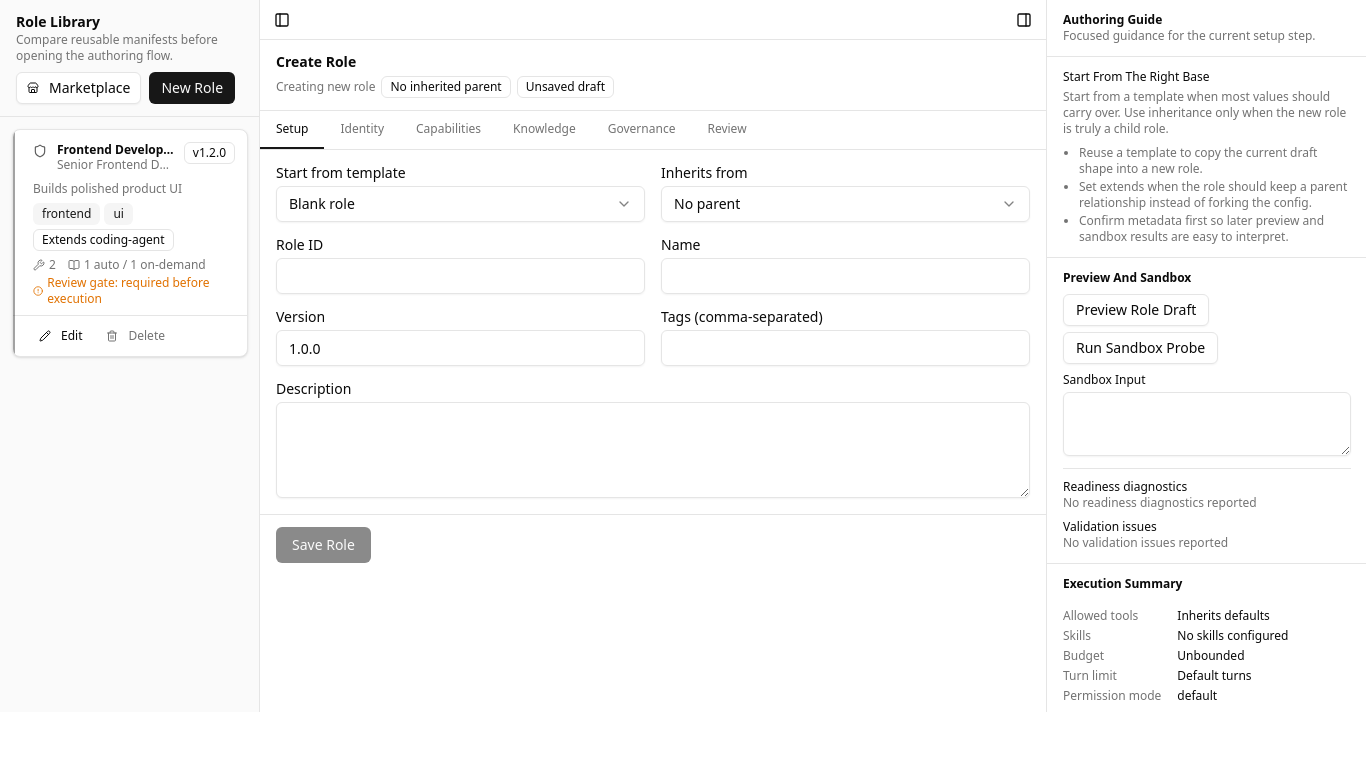
Scenario: RoleWorkspace › shows advanced authoring context for inherited and stored-only fields
The width and height of the screenshot is (1366, 768).
Click the button "Preview Role Draft" at [1136, 310], box x1=1063 y1=294 x2=1209 y2=326
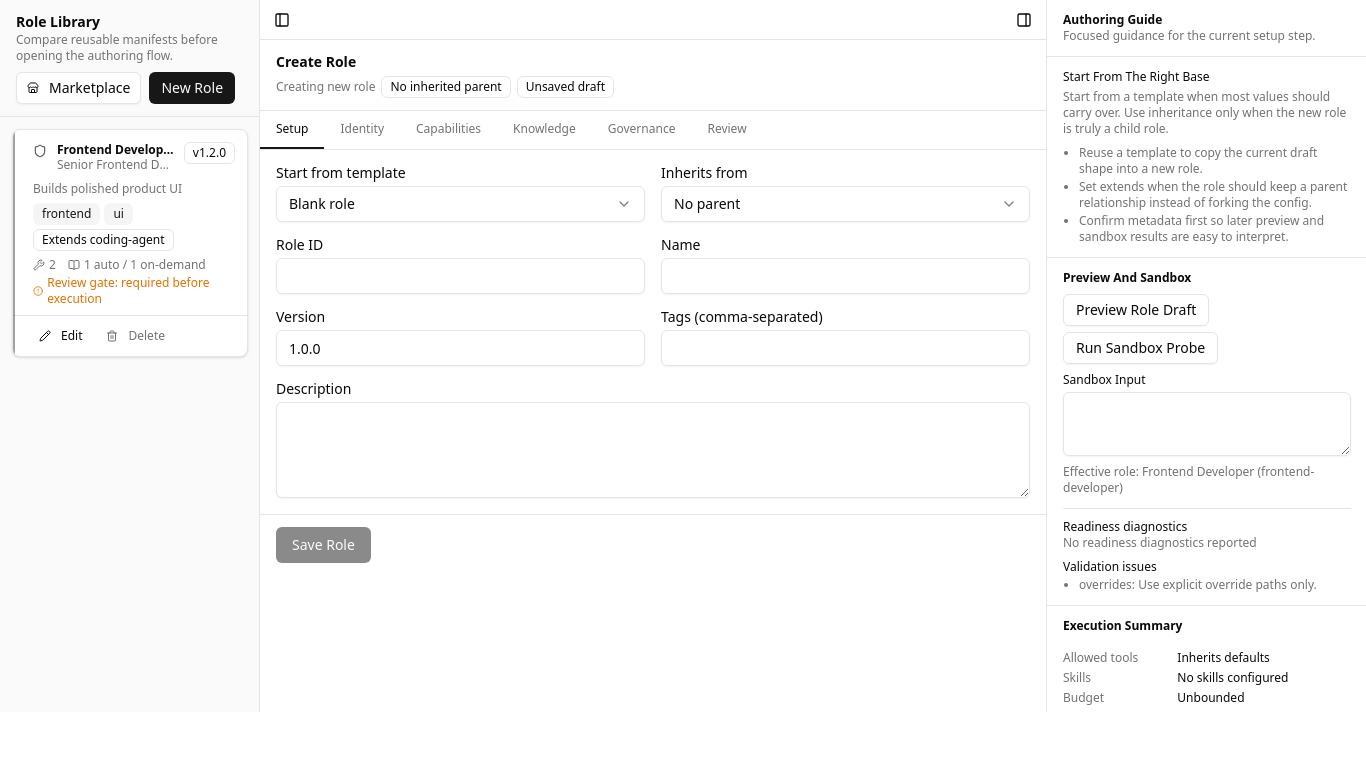
Type "Check advanced role context." into the text box labelled "Sandbox Input" at [1207, 424], box x1=1063 y1=392 x2=1351 y2=456
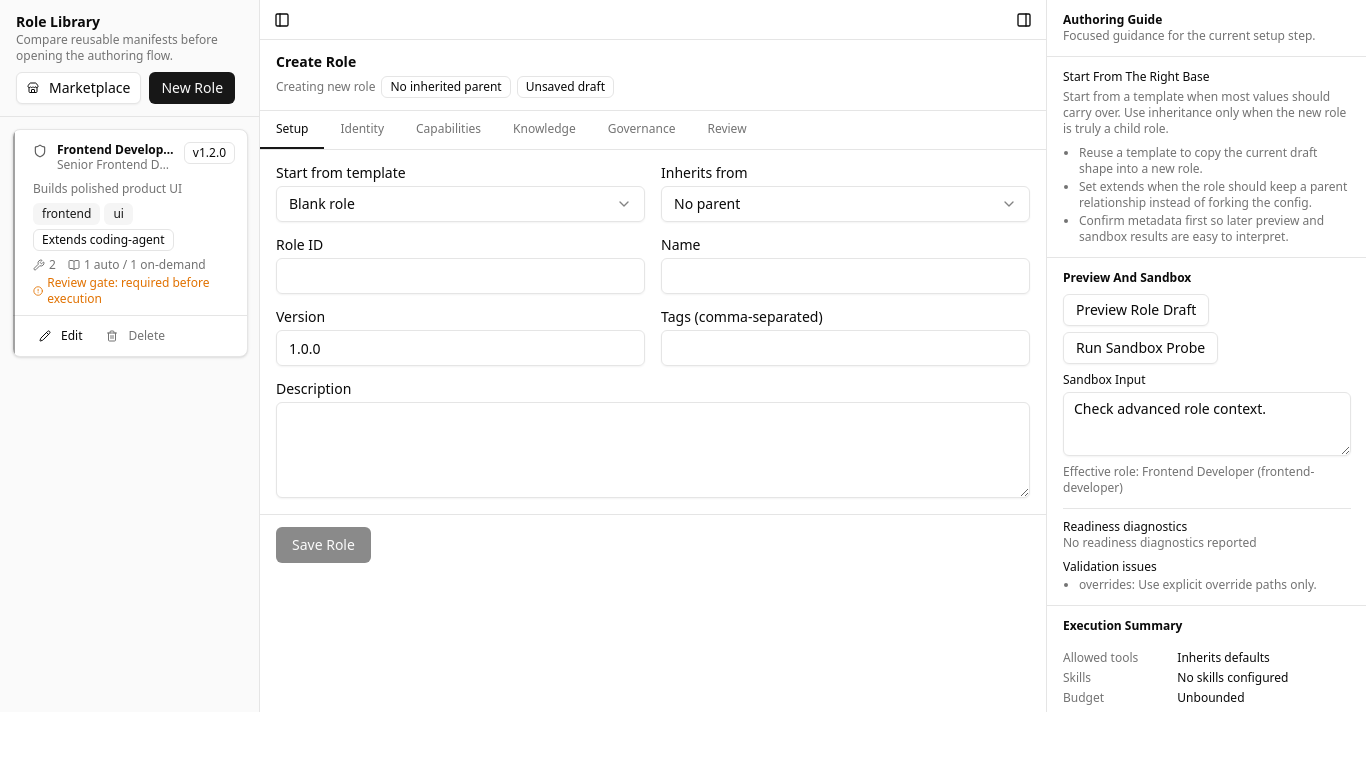
Click the button "Run Sandbox Probe" at [1141, 348], box x1=1063 y1=332 x2=1218 y2=364
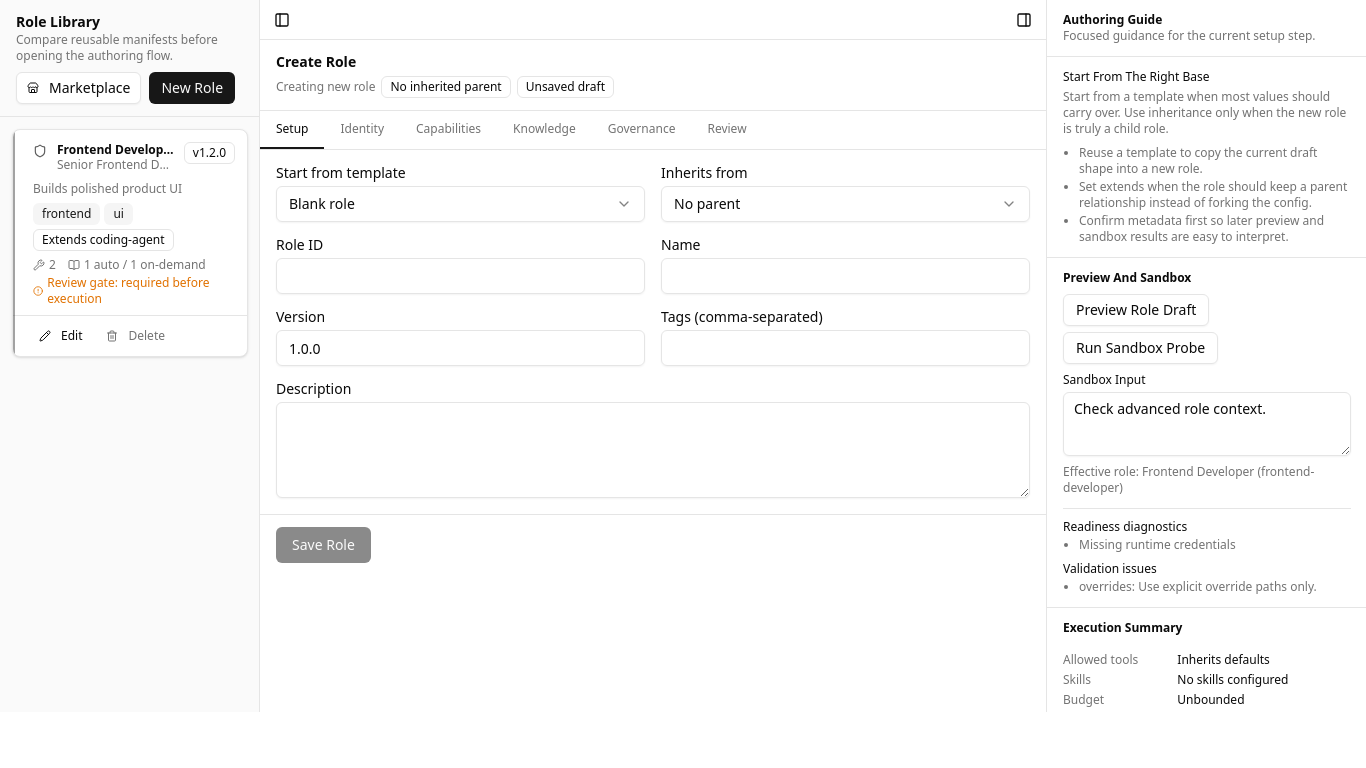
Result: the list item "overrides: Use explicit override paths only." is shown at x1=1079 y1=579 x2=1351 y2=595
Result: the list item "Missing runtime credentials" is shown at x1=1079 y1=536 x2=1236 y2=553
